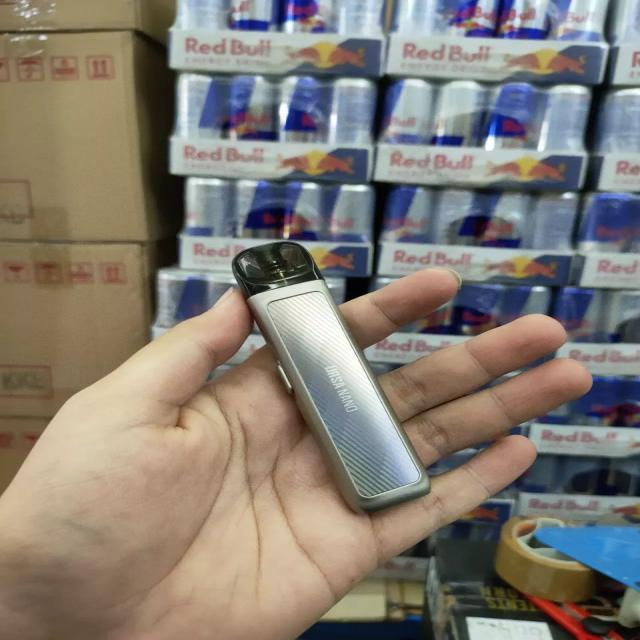Hazard: (231, 240, 432, 516)
